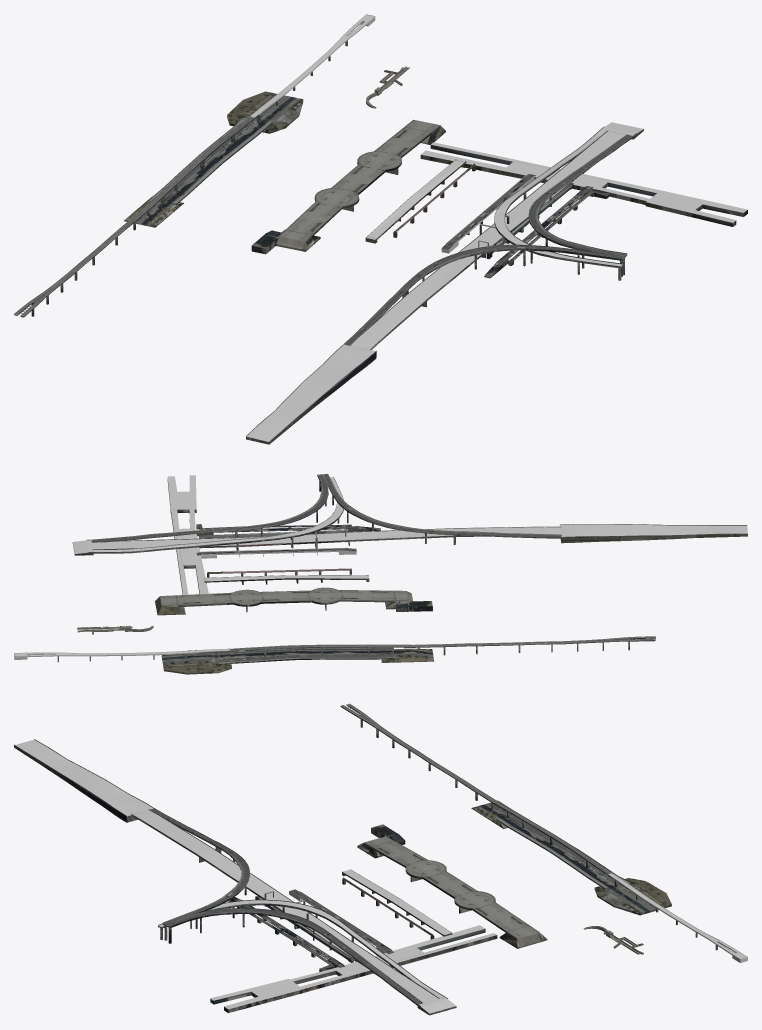
File: 53393652_brid_6697_op.gltf
The picture shows the model from 3 angles, top to bottom: view 1: azimuth 30°, elevation 25°; view 2: azimuth 150°, elevation 25°; view 3: azimuth 270°, elevation 25°; orthographic projection. The views are drawn at different scales.
Visible parts, largest first — view 1: brid_286ffa09-040c-4d4d-9c80-2817b862e799, brid_ba27abcf-e9d5-4f93-aef2-570c9ac78a05, brid_e3e44c35-7f12-4148-98f7-8856d96580e8, brid_45620433-24ba-4b9a-b53f-5cba6e18c276, brid_93dd1be7-cd61-493d-bc65-afd8815350b4, brid_4e042db5-6e2a-4ef5-91c4-5de8b7304848, brid_65ac1673-08bd-462f-bee8-a10d64657436, brid_66902dd5-477e-4c11-855c-c59bd91e4584, brid_b5d63613-f26b-4505-b436-dd8e8a8e7494, brid_f66396a3-54fe-479b-a301-39569da90970; view 2: brid_286ffa09-040c-4d4d-9c80-2817b862e799, brid_ba27abcf-e9d5-4f93-aef2-570c9ac78a05, brid_45620433-24ba-4b9a-b53f-5cba6e18c276, brid_e3e44c35-7f12-4148-98f7-8856d96580e8, brid_4e042db5-6e2a-4ef5-91c4-5de8b7304848, brid_93dd1be7-cd61-493d-bc65-afd8815350b4, brid_65ac1673-08bd-462f-bee8-a10d64657436, brid_66902dd5-477e-4c11-855c-c59bd91e4584, brid_b5d63613-f26b-4505-b436-dd8e8a8e7494, brid_f66396a3-54fe-479b-a301-39569da90970, brid_84d5e0bd-86e4-4125-a678-5467fea228e8, brid_8fa498c7-3818-4808-a350-cef77e184ac0 (+1 smaller); view 3: brid_286ffa09-040c-4d4d-9c80-2817b862e799, brid_ba27abcf-e9d5-4f93-aef2-570c9ac78a05, brid_e3e44c35-7f12-4148-98f7-8856d96580e8, brid_45620433-24ba-4b9a-b53f-5cba6e18c276, brid_65ac1673-08bd-462f-bee8-a10d64657436, brid_4e042db5-6e2a-4ef5-91c4-5de8b7304848, brid_93dd1be7-cd61-493d-bc65-afd8815350b4, brid_66902dd5-477e-4c11-855c-c59bd91e4584, brid_b5d63613-f26b-4505-b436-dd8e8a8e7494, brid_f66396a3-54fe-479b-a301-39569da90970.
Part boxes in pixels (left/top/right/bottom): brid_286ffa09-040c-4d4d-9c80-2817b862e799: left=246, top=122, right=643, bottom=444; brid_ba27abcf-e9d5-4f93-aef2-570c9ac78a05: left=14, top=91, right=303, bottom=317; brid_e3e44c35-7f12-4148-98f7-8856d96580e8: left=365, top=142, right=747, bottom=243; brid_45620433-24ba-4b9a-b53f-5cba6e18c276: left=251, top=119, right=445, bottom=254; brid_93dd1be7-cd61-493d-bc65-afd8815350b4: left=344, top=244, right=625, bottom=345; brid_4e042db5-6e2a-4ef5-91c4-5de8b7304848: left=479, top=128, right=622, bottom=280; brid_65ac1673-08bd-462f-bee8-a10d64657436: left=528, top=134, right=633, bottom=275; brid_66902dd5-477e-4c11-855c-c59bd91e4584: left=246, top=14, right=375, bottom=124; brid_b5d63613-f26b-4505-b436-dd8e8a8e7494: left=441, top=174, right=535, bottom=253; brid_f66396a3-54fe-479b-a301-39569da90970: left=484, top=186, right=593, bottom=278; brid_286ffa09-040c-4d4d-9c80-2817b862e799: left=72, top=524, right=747, bottom=555; brid_ba27abcf-e9d5-4f93-aef2-570c9ac78a05: left=161, top=636, right=655, bottom=674; brid_45620433-24ba-4b9a-b53f-5cba6e18c276: left=155, top=587, right=432, bottom=615; brid_e3e44c35-7f12-4148-98f7-8856d96580e8: left=167, top=475, right=369, bottom=594; brid_4e042db5-6e2a-4ef5-91c4-5de8b7304848: left=92, top=477, right=343, bottom=553; brid_93dd1be7-cd61-493d-bc65-afd8815350b4: left=323, top=473, right=561, bottom=544; brid_65ac1673-08bd-462f-bee8-a10d64657436: left=91, top=474, right=328, bottom=542; brid_66902dd5-477e-4c11-855c-c59bd91e4584: left=14, top=648, right=245, bottom=662; brid_b5d63613-f26b-4505-b436-dd8e8a8e7494: left=196, top=547, right=356, bottom=558; brid_f66396a3-54fe-479b-a301-39569da90970: left=196, top=526, right=380, bottom=536; brid_84d5e0bd-86e4-4125-a678-5467fea228e8: left=199, top=529, right=353, bottom=538; brid_8fa498c7-3818-4808-a350-cef77e184ac0: left=207, top=568, right=351, bottom=577; brid_286ffa09-040c-4d4d-9c80-2817b862e799: left=14, top=739, right=456, bottom=1015; brid_ba27abcf-e9d5-4f93-aef2-570c9ac78a05: left=340, top=703, right=671, bottom=915; brid_e3e44c35-7f12-4148-98f7-8856d96580e8: left=210, top=869, right=497, bottom=1013; brid_45620433-24ba-4b9a-b53f-5cba6e18c276: left=357, top=824, right=547, bottom=948; brid_65ac1673-08bd-462f-bee8-a10d64657436: left=166, top=908, right=422, bottom=1005; brid_4e042db5-6e2a-4ef5-91c4-5de8b7304848: left=158, top=899, right=444, bottom=998; brid_93dd1be7-cd61-493d-bc65-afd8815350b4: left=150, top=808, right=249, bottom=940; brid_66902dd5-477e-4c11-855c-c59bd91e4584: left=598, top=869, right=747, bottom=962; brid_b5d63613-f26b-4505-b436-dd8e8a8e7494: left=289, top=889, right=394, bottom=954; brid_f66396a3-54fe-479b-a301-39569da90970: left=230, top=897, right=344, bottom=967.
Bounding box in the file's own units: 1043 × 31.47 × 1079.
